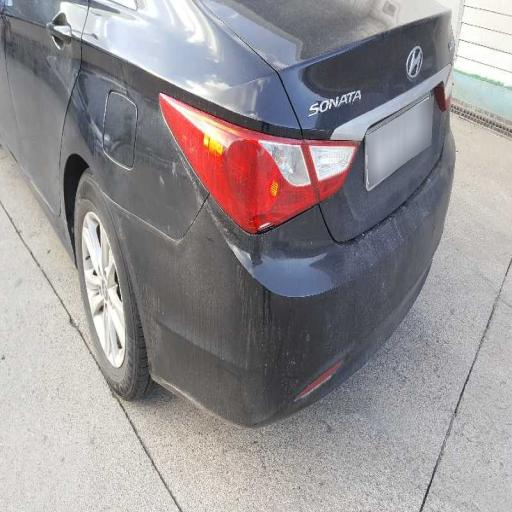scratch: (97, 54, 364, 374)
